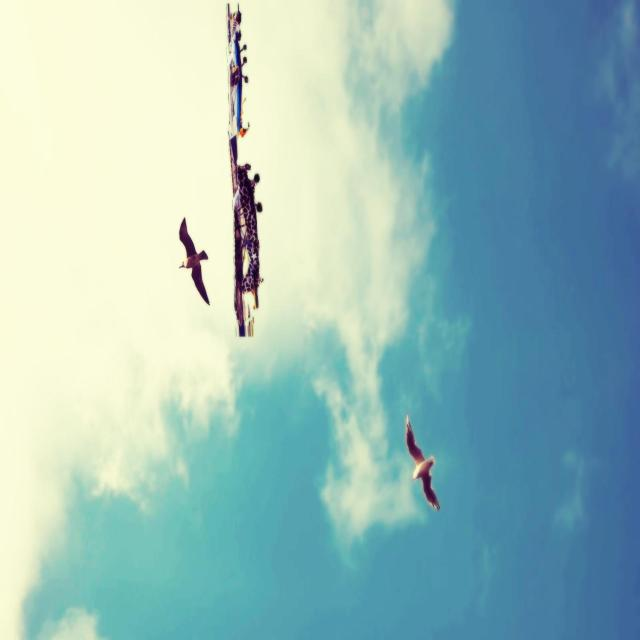airplane: (228, 141, 264, 338), (224, 3, 254, 140)
